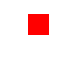square: (28, 14, 48, 34)
